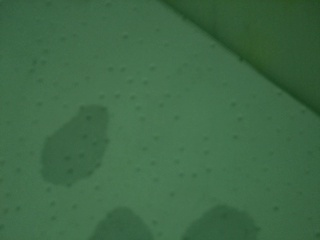Water_detected: (50, 111, 108, 181), (175, 199, 220, 240), (97, 213, 138, 240)
